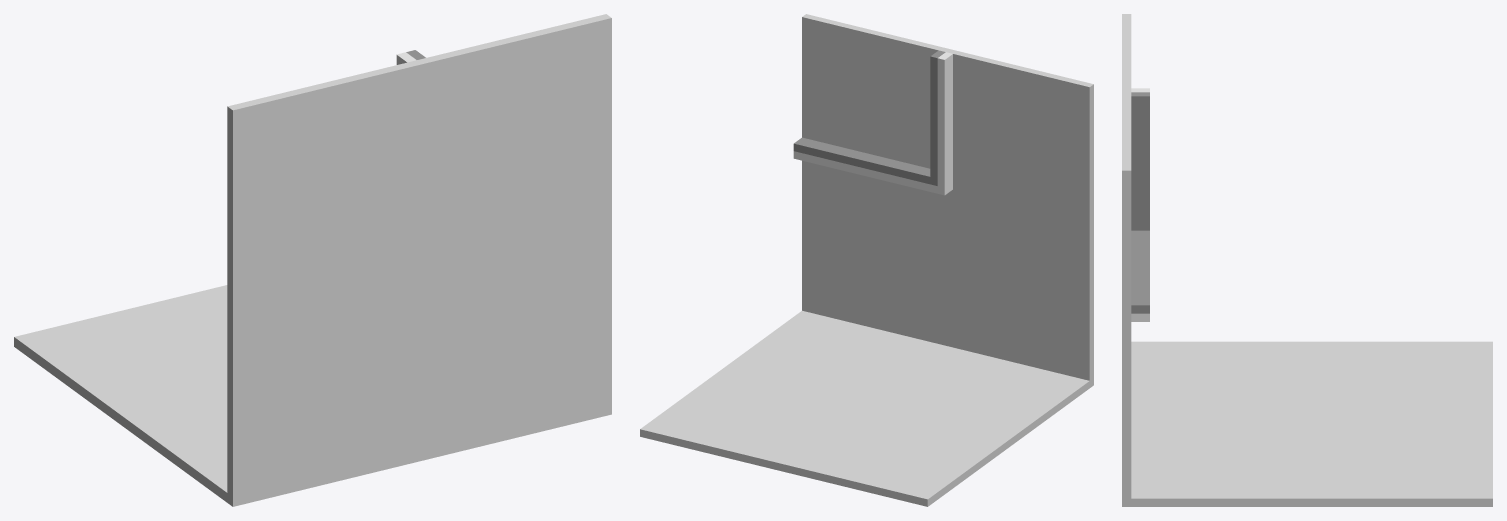
File: wall_light1.obj
3 views of the same model, side by side, from view 1: azimuth 30°, elevation 25°; view 2: azimuth 150°, elevation 25°; view 3: azimuth 270°, elevation 25° (orthographic). The views are drawn at different scales.
Bounding box in the file's own units: 4 × 4 × 4.
1 material, 1 textured.
